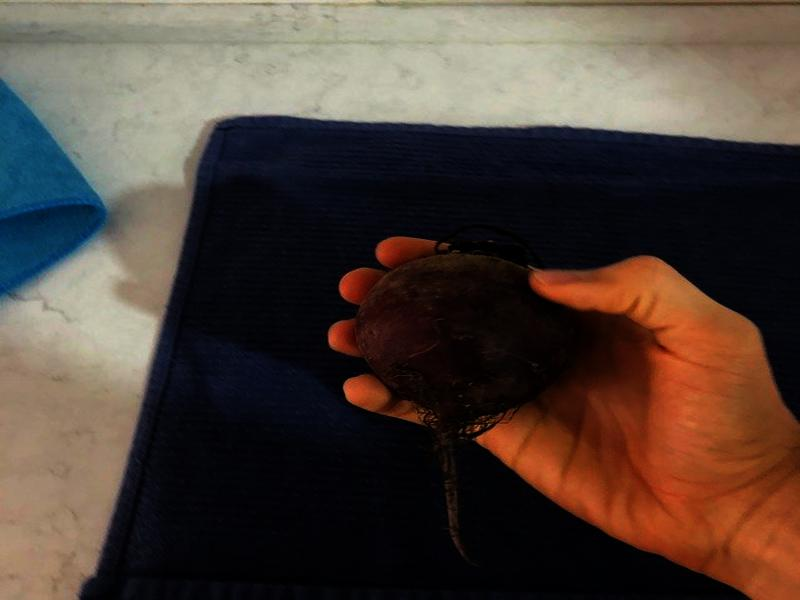Beet: (354, 225, 574, 567)
